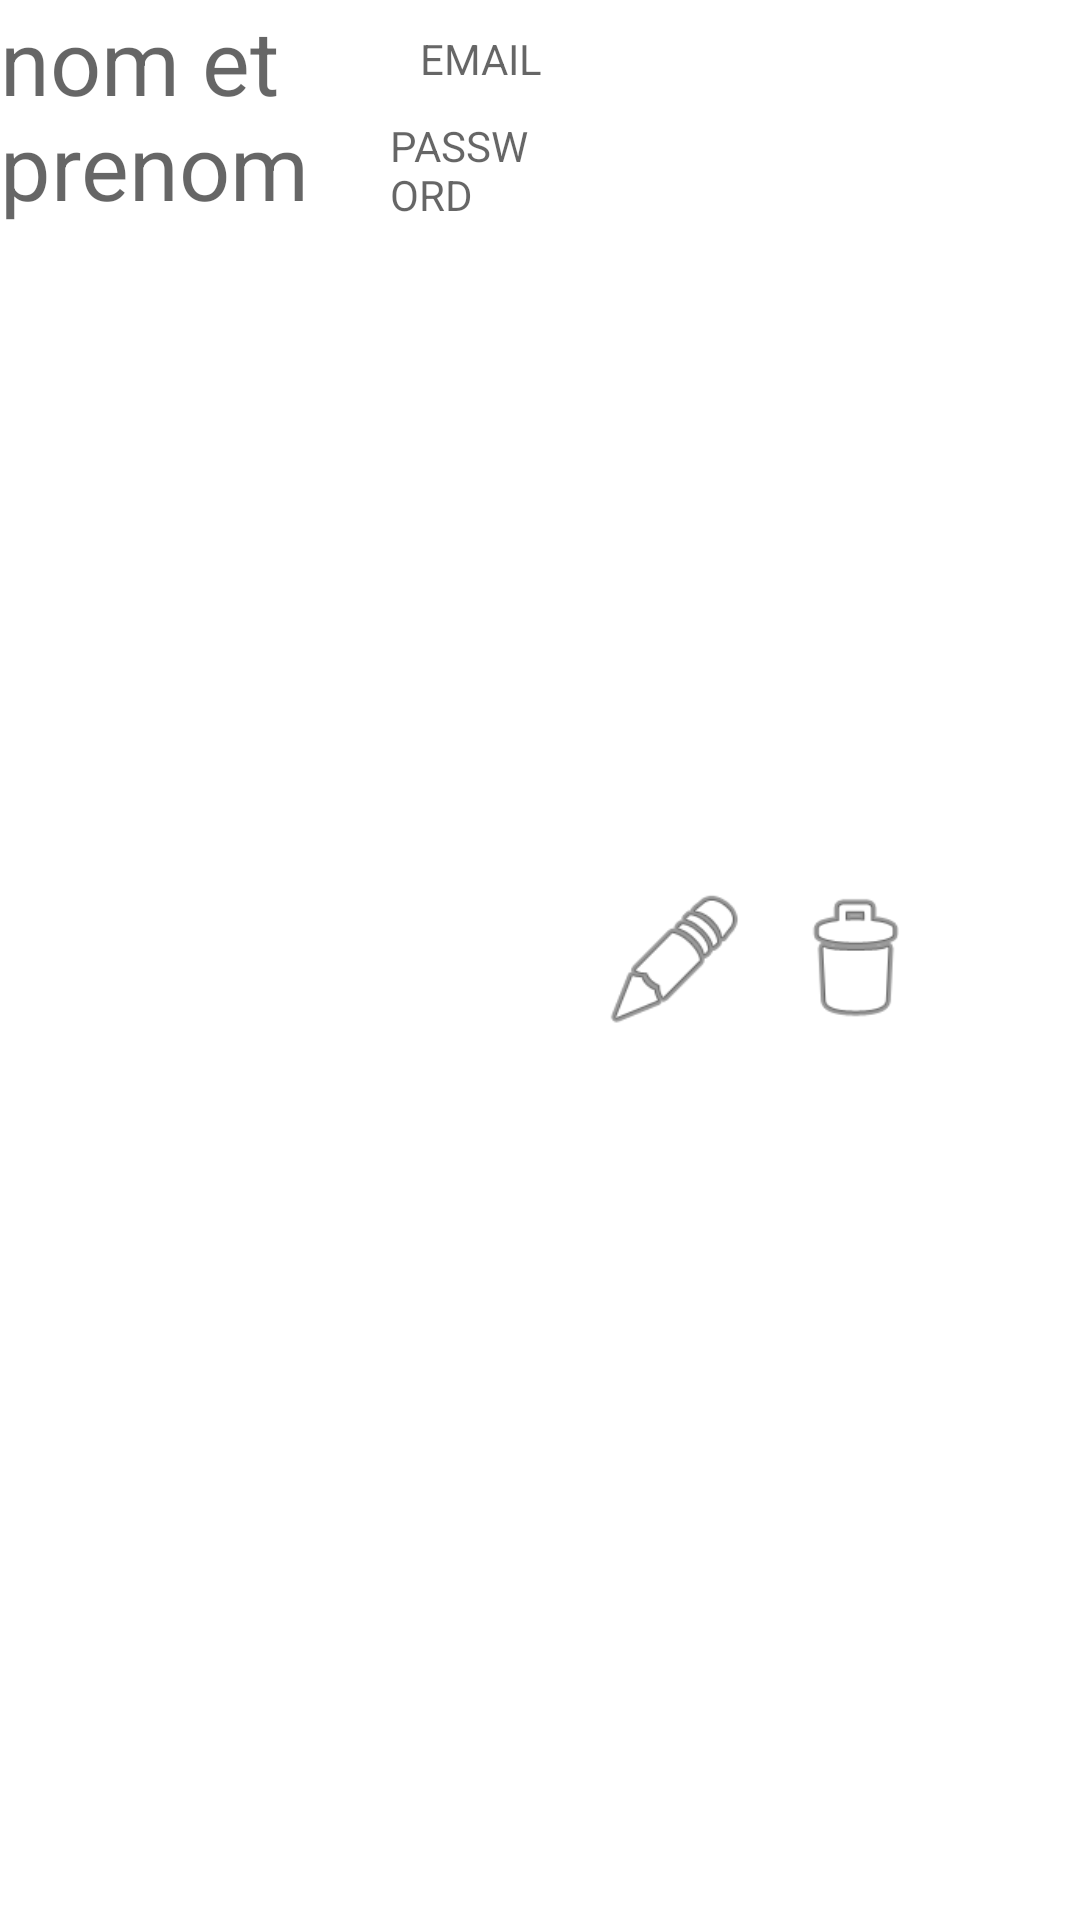

Icons on this 1080w x 1920h Android screen, each with its box as detection(x1, y1, x2, y2):
delete: detection(813, 899, 898, 1016)
edit: detection(611, 895, 738, 1023)
